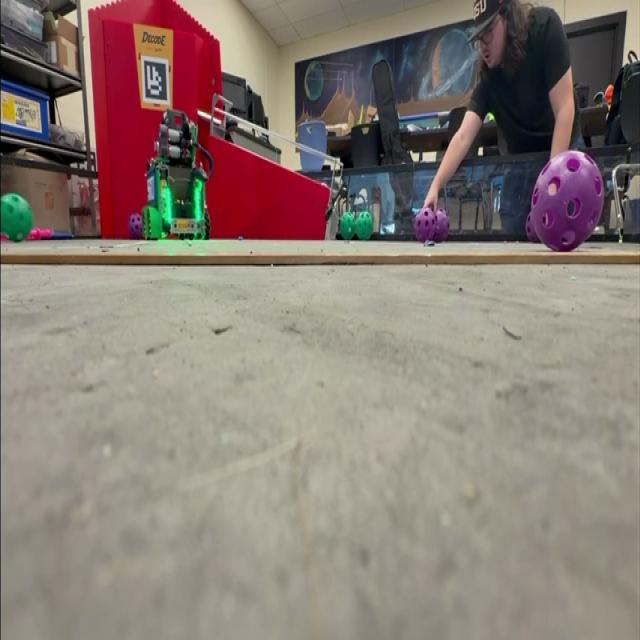artifact_green: (0, 194, 32, 241), (356, 211, 373, 241), (341, 212, 355, 239)
artifact_purple: (531, 151, 604, 251), (414, 208, 435, 242), (434, 208, 449, 242), (526, 212, 539, 242), (129, 214, 143, 239)
